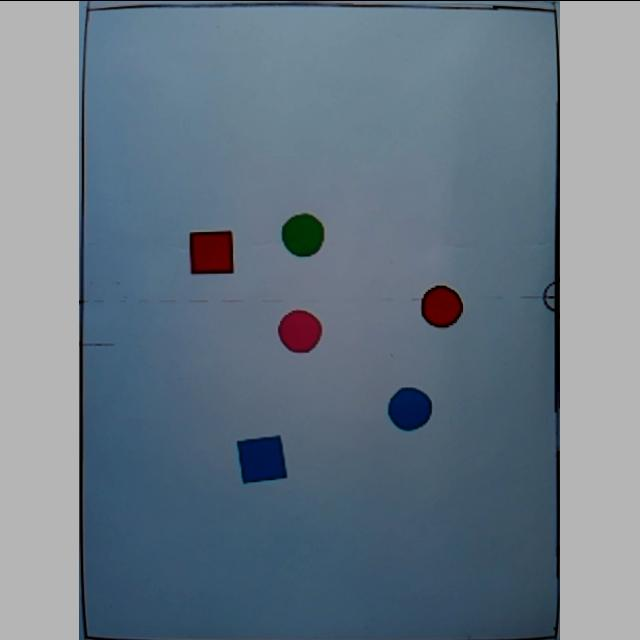blueCircle: (388, 386, 436, 430)
blueSquare: (238, 433, 290, 483)
greenCircle: (284, 214, 326, 256)
pinkCircle: (280, 308, 324, 354)
redCircle: (422, 284, 464, 328)
redSquare: (192, 230, 236, 274)
